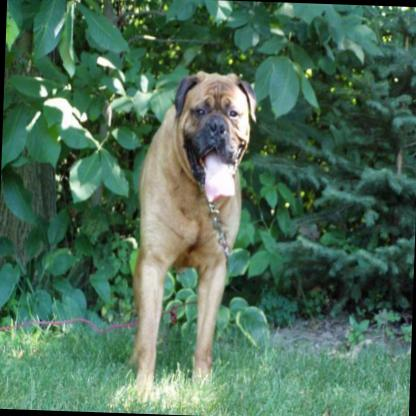bull_mastiff: (126, 67, 256, 397)
